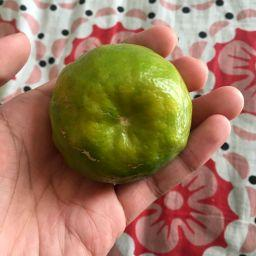Unripe: (51, 45, 191, 185)
